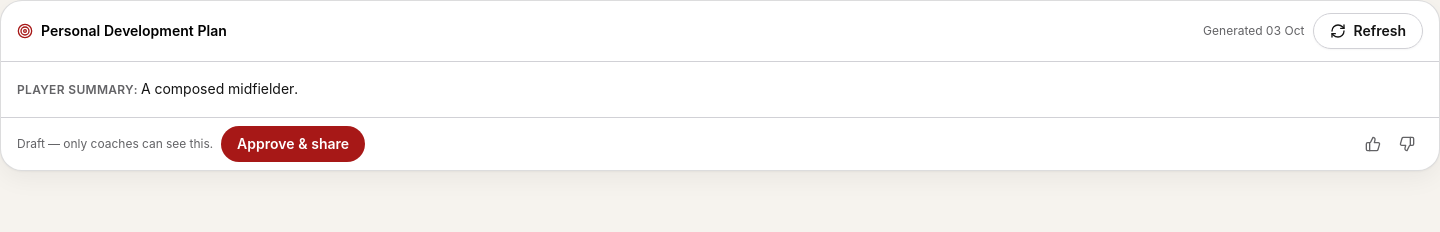
Test: DevelopmentPlanPanel › Refresh with nothing changed says so, and offers to regenerate anyway with force
Click the button "Refresh" at (1368, 31), box [1312, 13, 1423, 49]
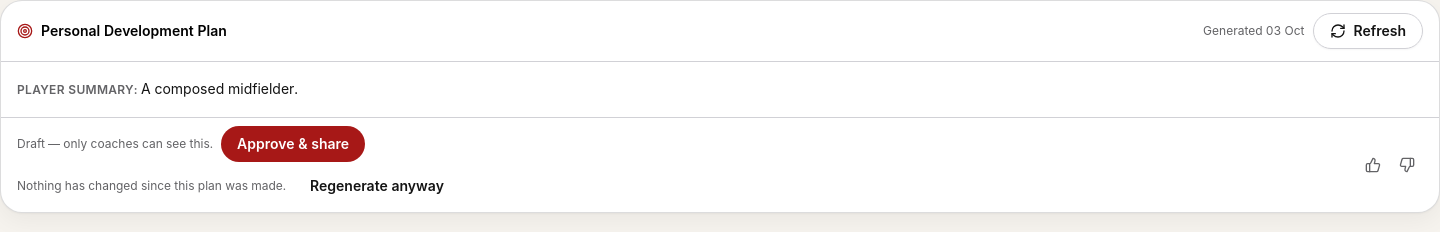
Expected: the text "Nothing has changed since this plan was made" is shown, [17, 178, 286, 193]
Click the button "Regenerate anyway" at (377, 186), box [294, 168, 460, 204]
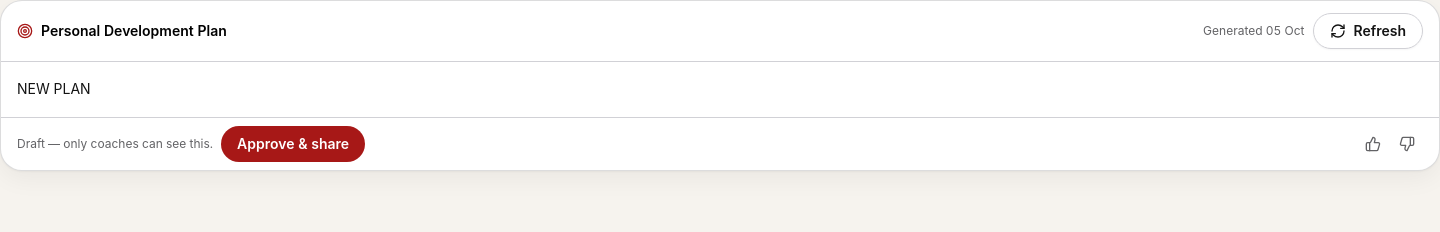
Expected: the text "NEW PLAN" is shown, [17, 80, 91, 97]
Expected: the text "Nothing has changed" is gone
